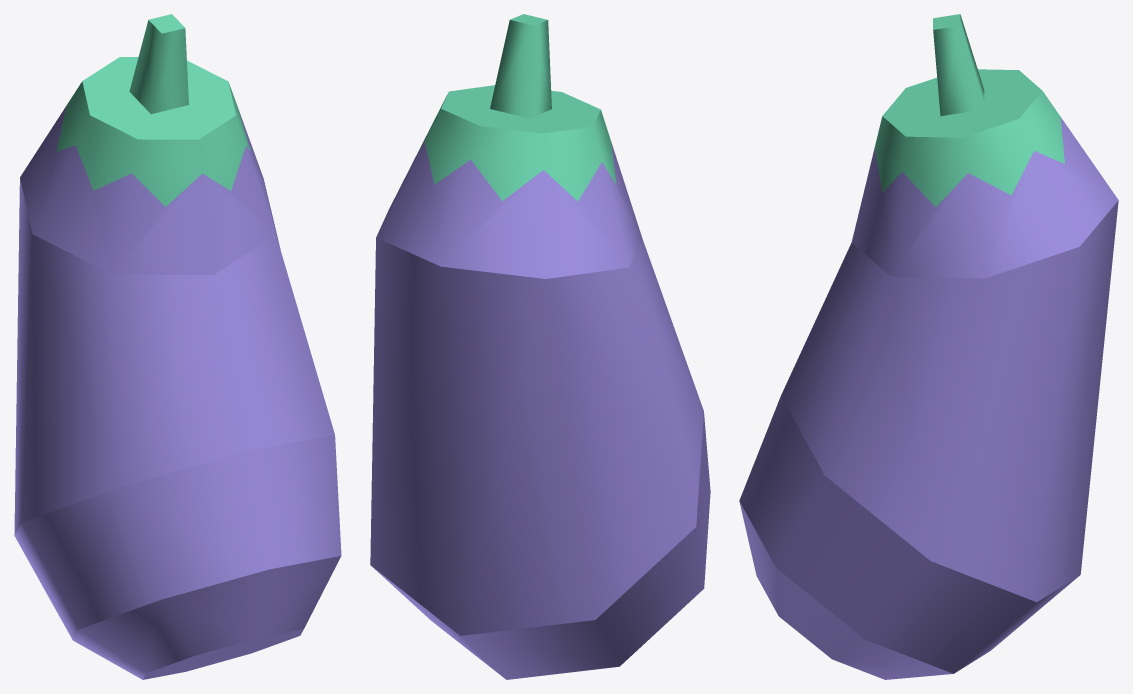
File: eggplant.glb
3 views of the same model, side by side, from view 1: azimuth 30°, elevation 25°; view 2: azimuth 150°, elevation 25°; view 3: azimuth 270°, elevation 25° (orthographic). The views are drawn at different scales.
Parts seen in each view (by area): view 1: eggplant; view 2: eggplant; view 3: eggplant.
Part boxes in pixels (x1=…): eggplant: x1=14, y1=14, x2=341, y2=679; eggplant: x1=370, y1=14, x2=710, y2=679; eggplant: x1=739, y1=14, x2=1118, y2=679.
Size of the model in its own units: 0.204 by 0.4052 by 0.2156.
